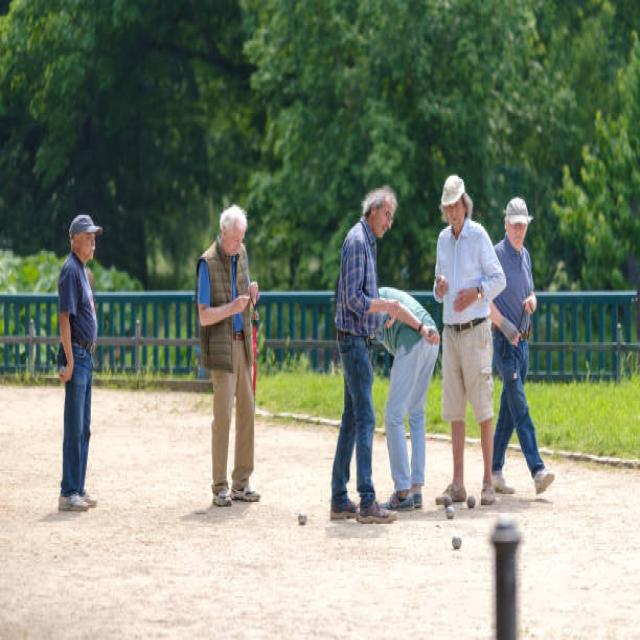petanque: (294, 509, 310, 535), (449, 533, 464, 551), (443, 504, 455, 524), (465, 496, 476, 511), (427, 325, 438, 337)
